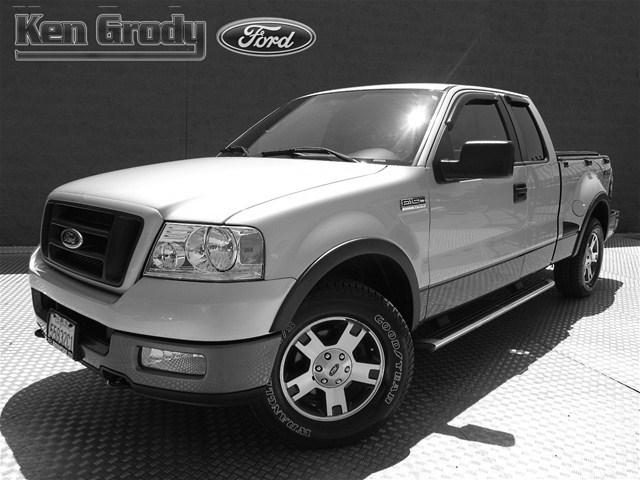car: (26, 80, 625, 449)
